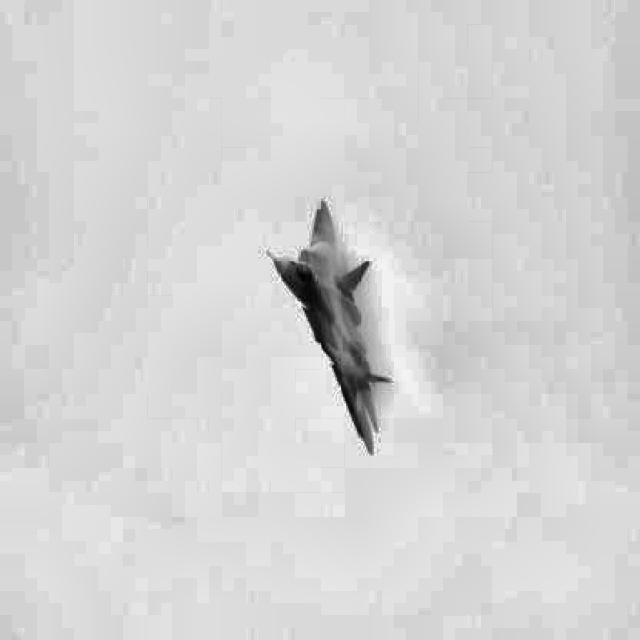Su57: (265, 198, 392, 458)
